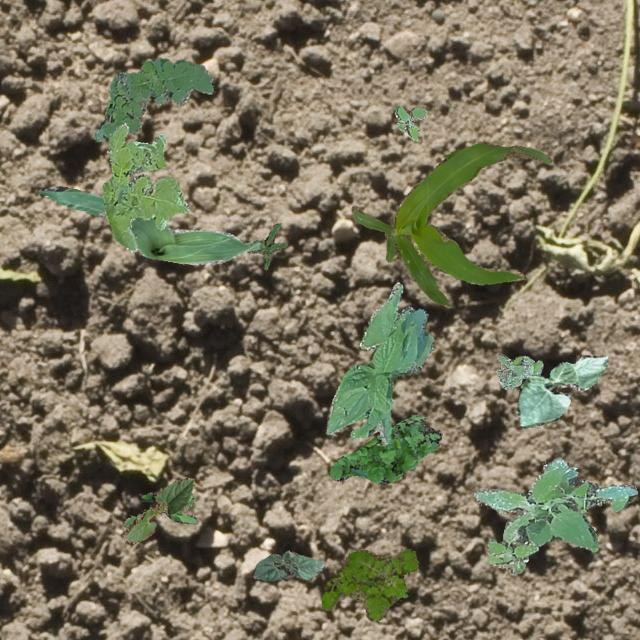crop: (350, 140, 550, 306), (36, 186, 258, 264), (326, 282, 432, 444), (516, 354, 608, 428), (124, 478, 194, 542), (250, 550, 322, 580)
weed: (472, 458, 636, 572), (102, 122, 188, 250), (94, 56, 212, 140), (328, 414, 441, 484), (320, 548, 418, 620), (122, 492, 198, 526), (246, 222, 286, 268), (494, 352, 542, 388), (394, 104, 426, 140)
